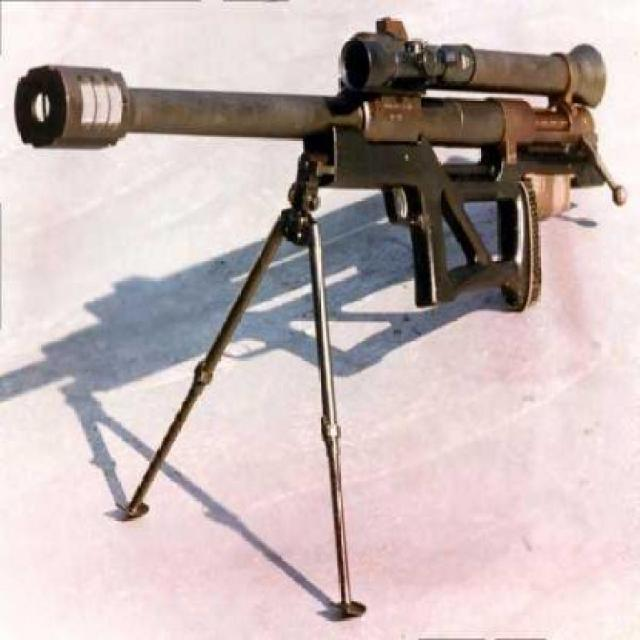weapon: (11, 16, 626, 616)
